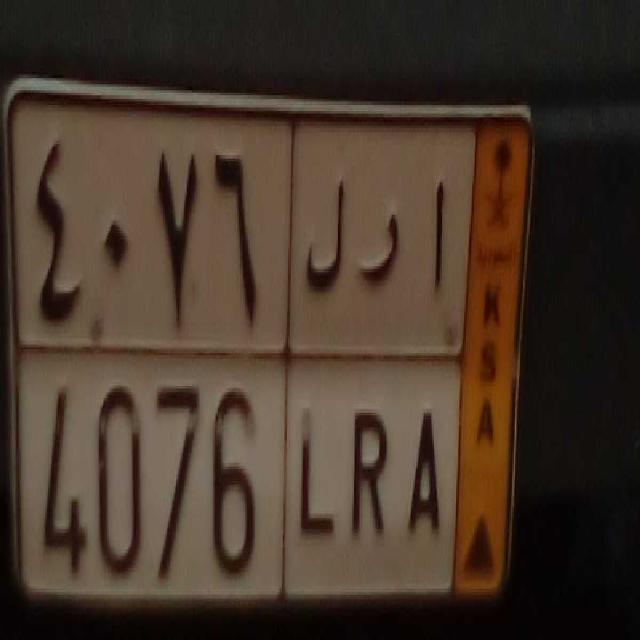license_plate: (15, 340, 456, 600)
